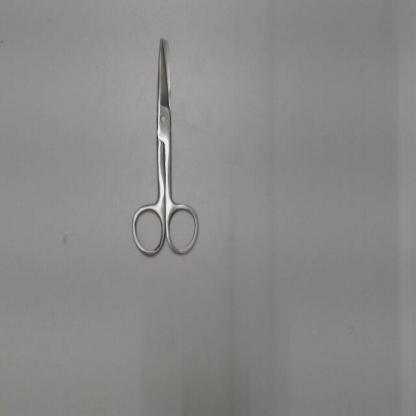Dressing Scissors: (120, 22, 208, 267)
